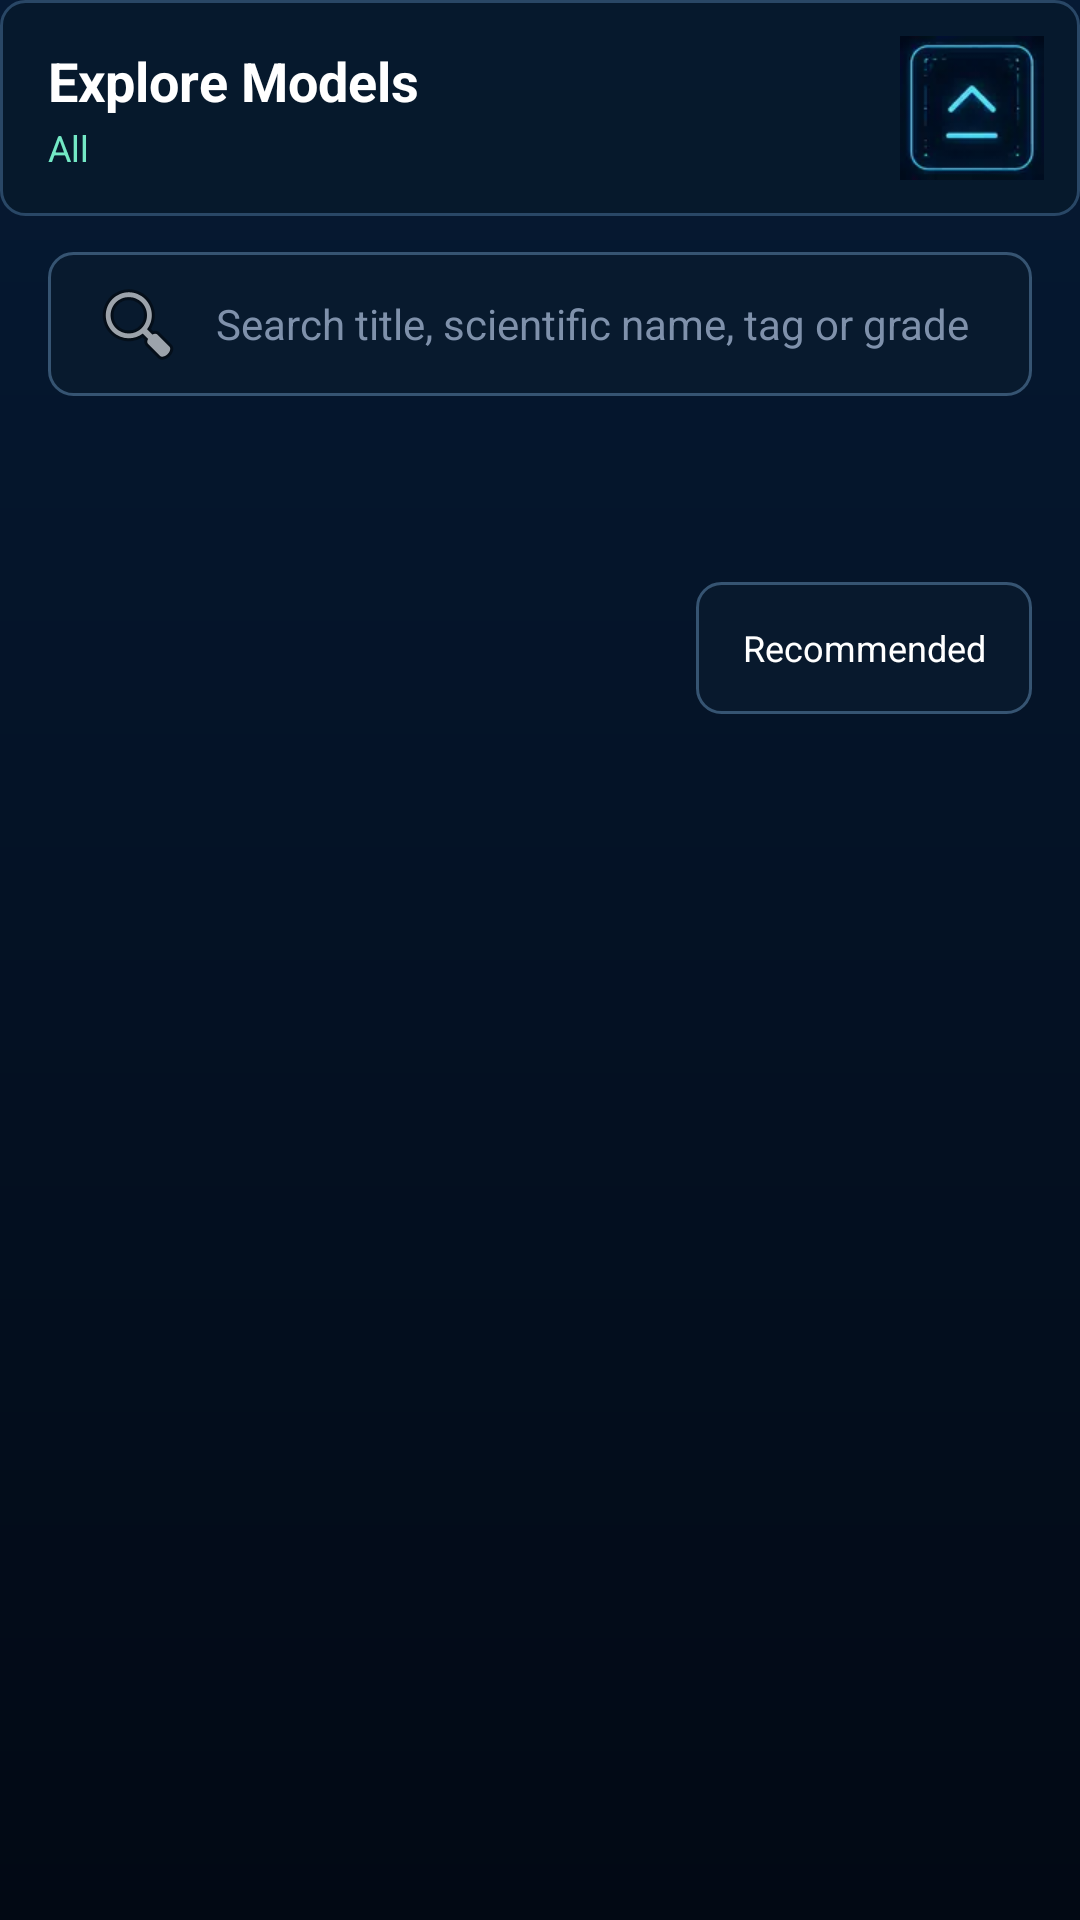

Where icons sit on this 1080px×1920px app screen, as bbox=(x1, y1, x2, y2):
Expand model library: bbox=(909, 44, 1034, 171)
